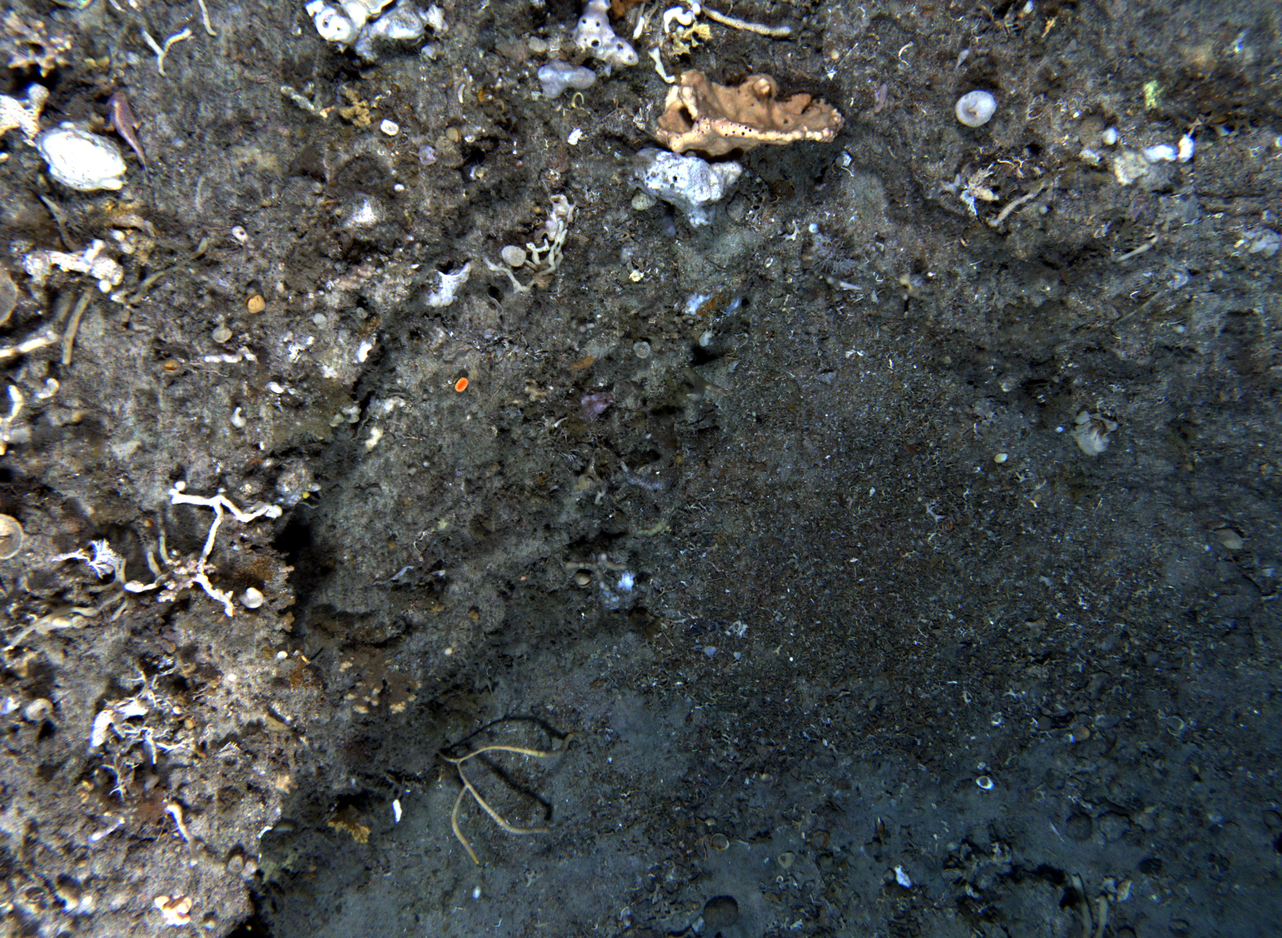Brachionichthyidae: (102, 90, 149, 175)
